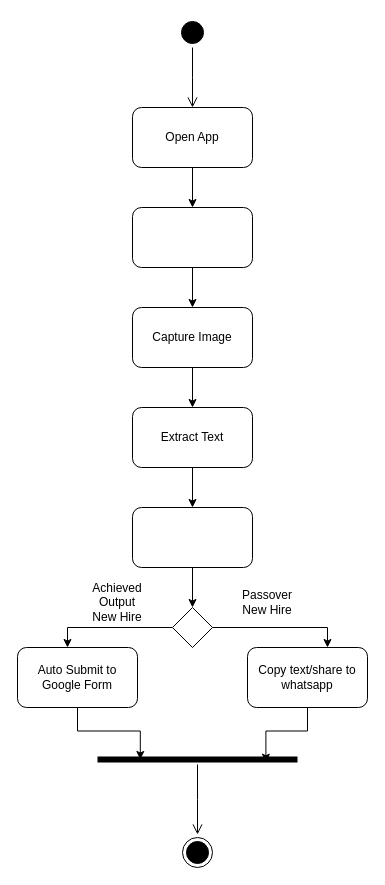
The diagram is 385 pixels wide and 885 high, and some of its shapes have lost their labels. Each missing label, with the centre of its shape:
Choose Mode: (x=192, y=237)
Show Data: (x=192, y=537)
